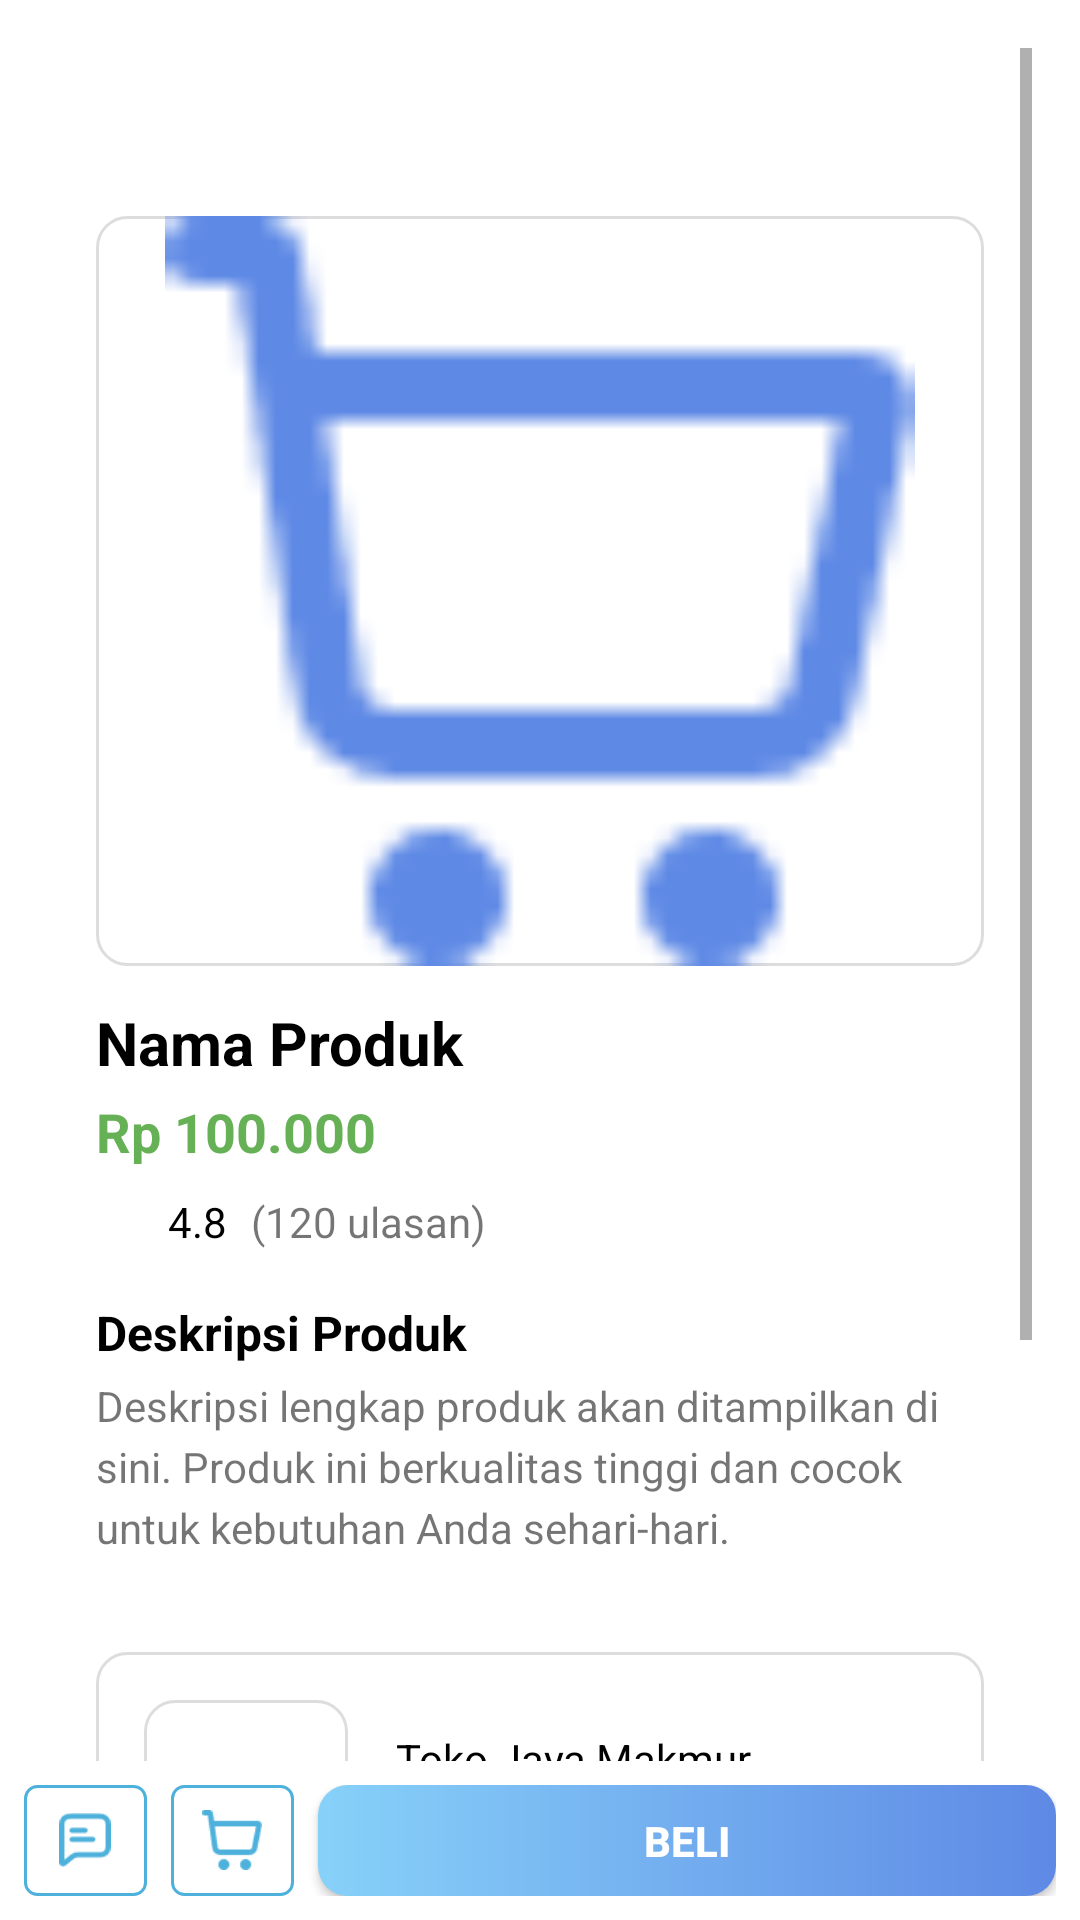

Screen size 1080 × 1920. Icon name, then its center in pixels as (x=x, y=y):
cart: (x=232, y=1840)
chat: (x=85, y=1840)
